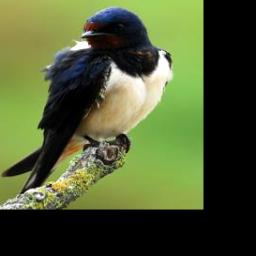Swallow: (0, 5, 174, 197)
